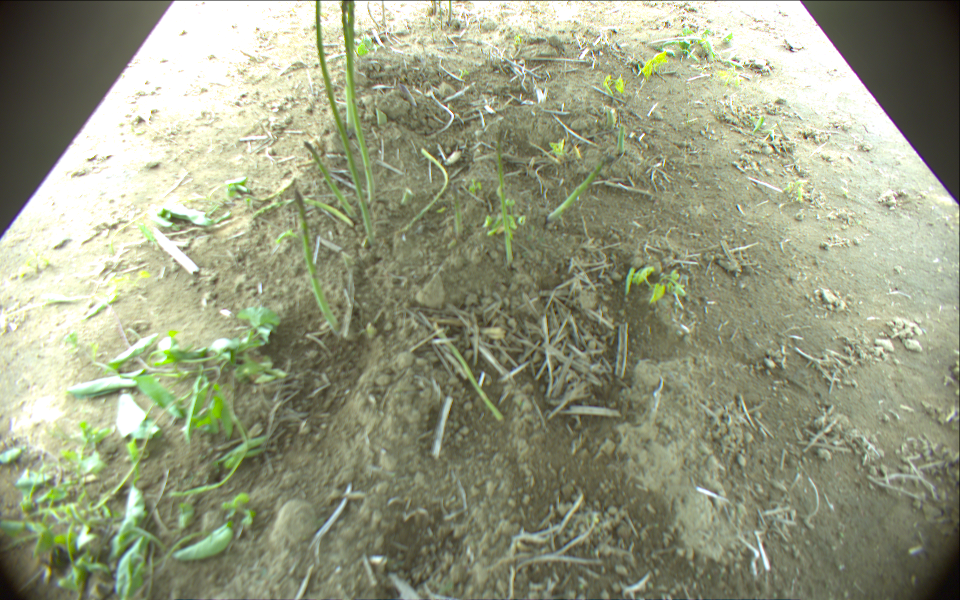aspa: (314, 1, 375, 239), (339, 1, 376, 202), (292, 189, 339, 335), (431, 325, 503, 420), (303, 139, 358, 216), (403, 147, 447, 233), (547, 161, 602, 221), (252, 198, 354, 227), (496, 127, 512, 262), (346, 1, 357, 133), (452, 193, 465, 238), (365, 1, 379, 27), (616, 124, 626, 155), (438, 1, 444, 29), (381, 1, 387, 27), (447, 1, 453, 22)
